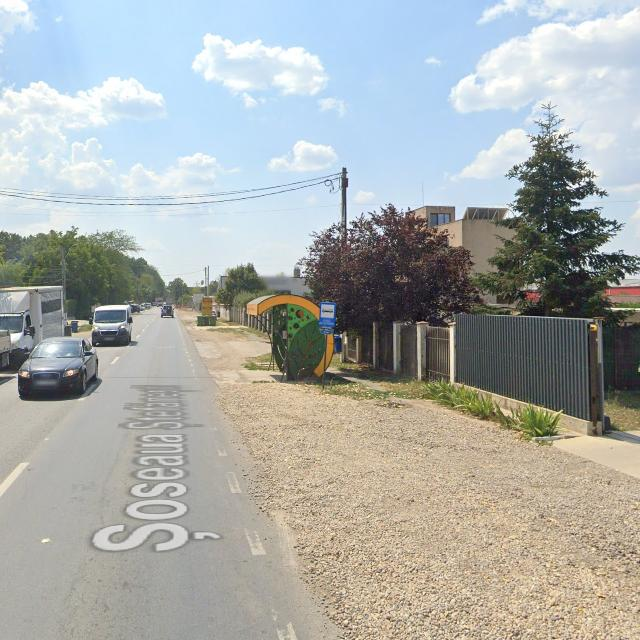info_bus_station: (319, 302, 335, 328)
